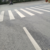zebra: (1, 6, 50, 21)
